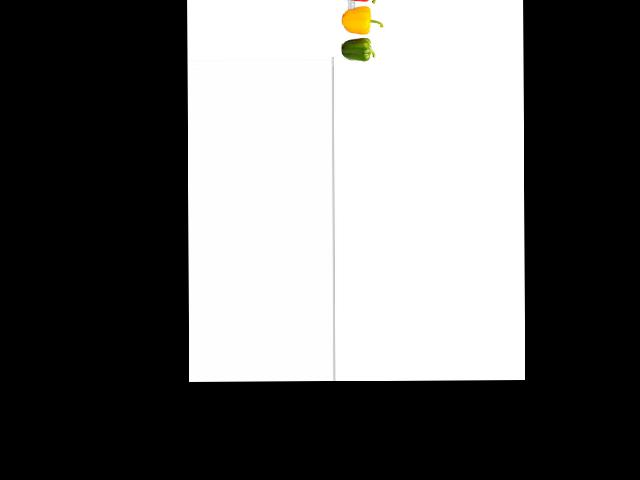bell_pepper: (339, 38, 379, 64)
